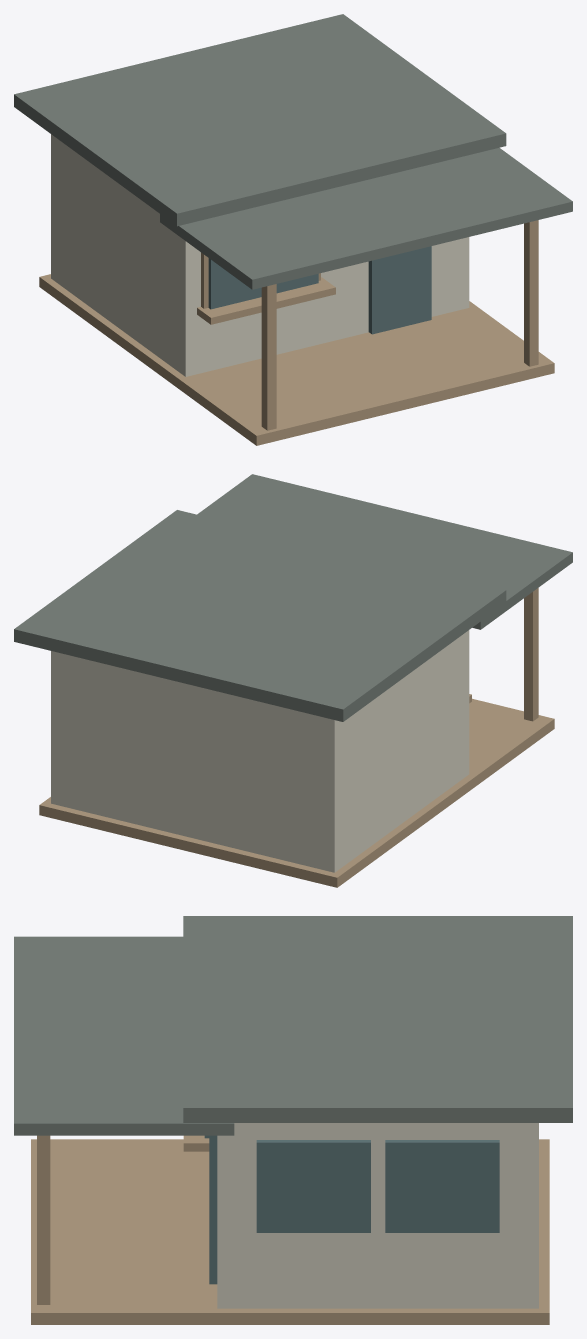
The model's file is snack_bar_03.glb.
3 views of the same model, one above another, from view 1: azimuth 30°, elevation 25°; view 2: azimuth 150°, elevation 25°; view 3: azimuth 270°, elevation 25° (orthographic). The views are drawn at different scales.
Visible parts, largest first — view 1: Snack_bar_03; view 2: Snack_bar_03; view 3: Snack_bar_03.
Boxes of the visible parts, box(x1,y1,x2,y2) form: Snack_bar_03: box(14, 14, 572, 445); Snack_bar_03: box(14, 474, 572, 887); Snack_bar_03: box(14, 916, 572, 1324).
Size of the model in its own units: 5.55 by 3.05 by 6.83.
